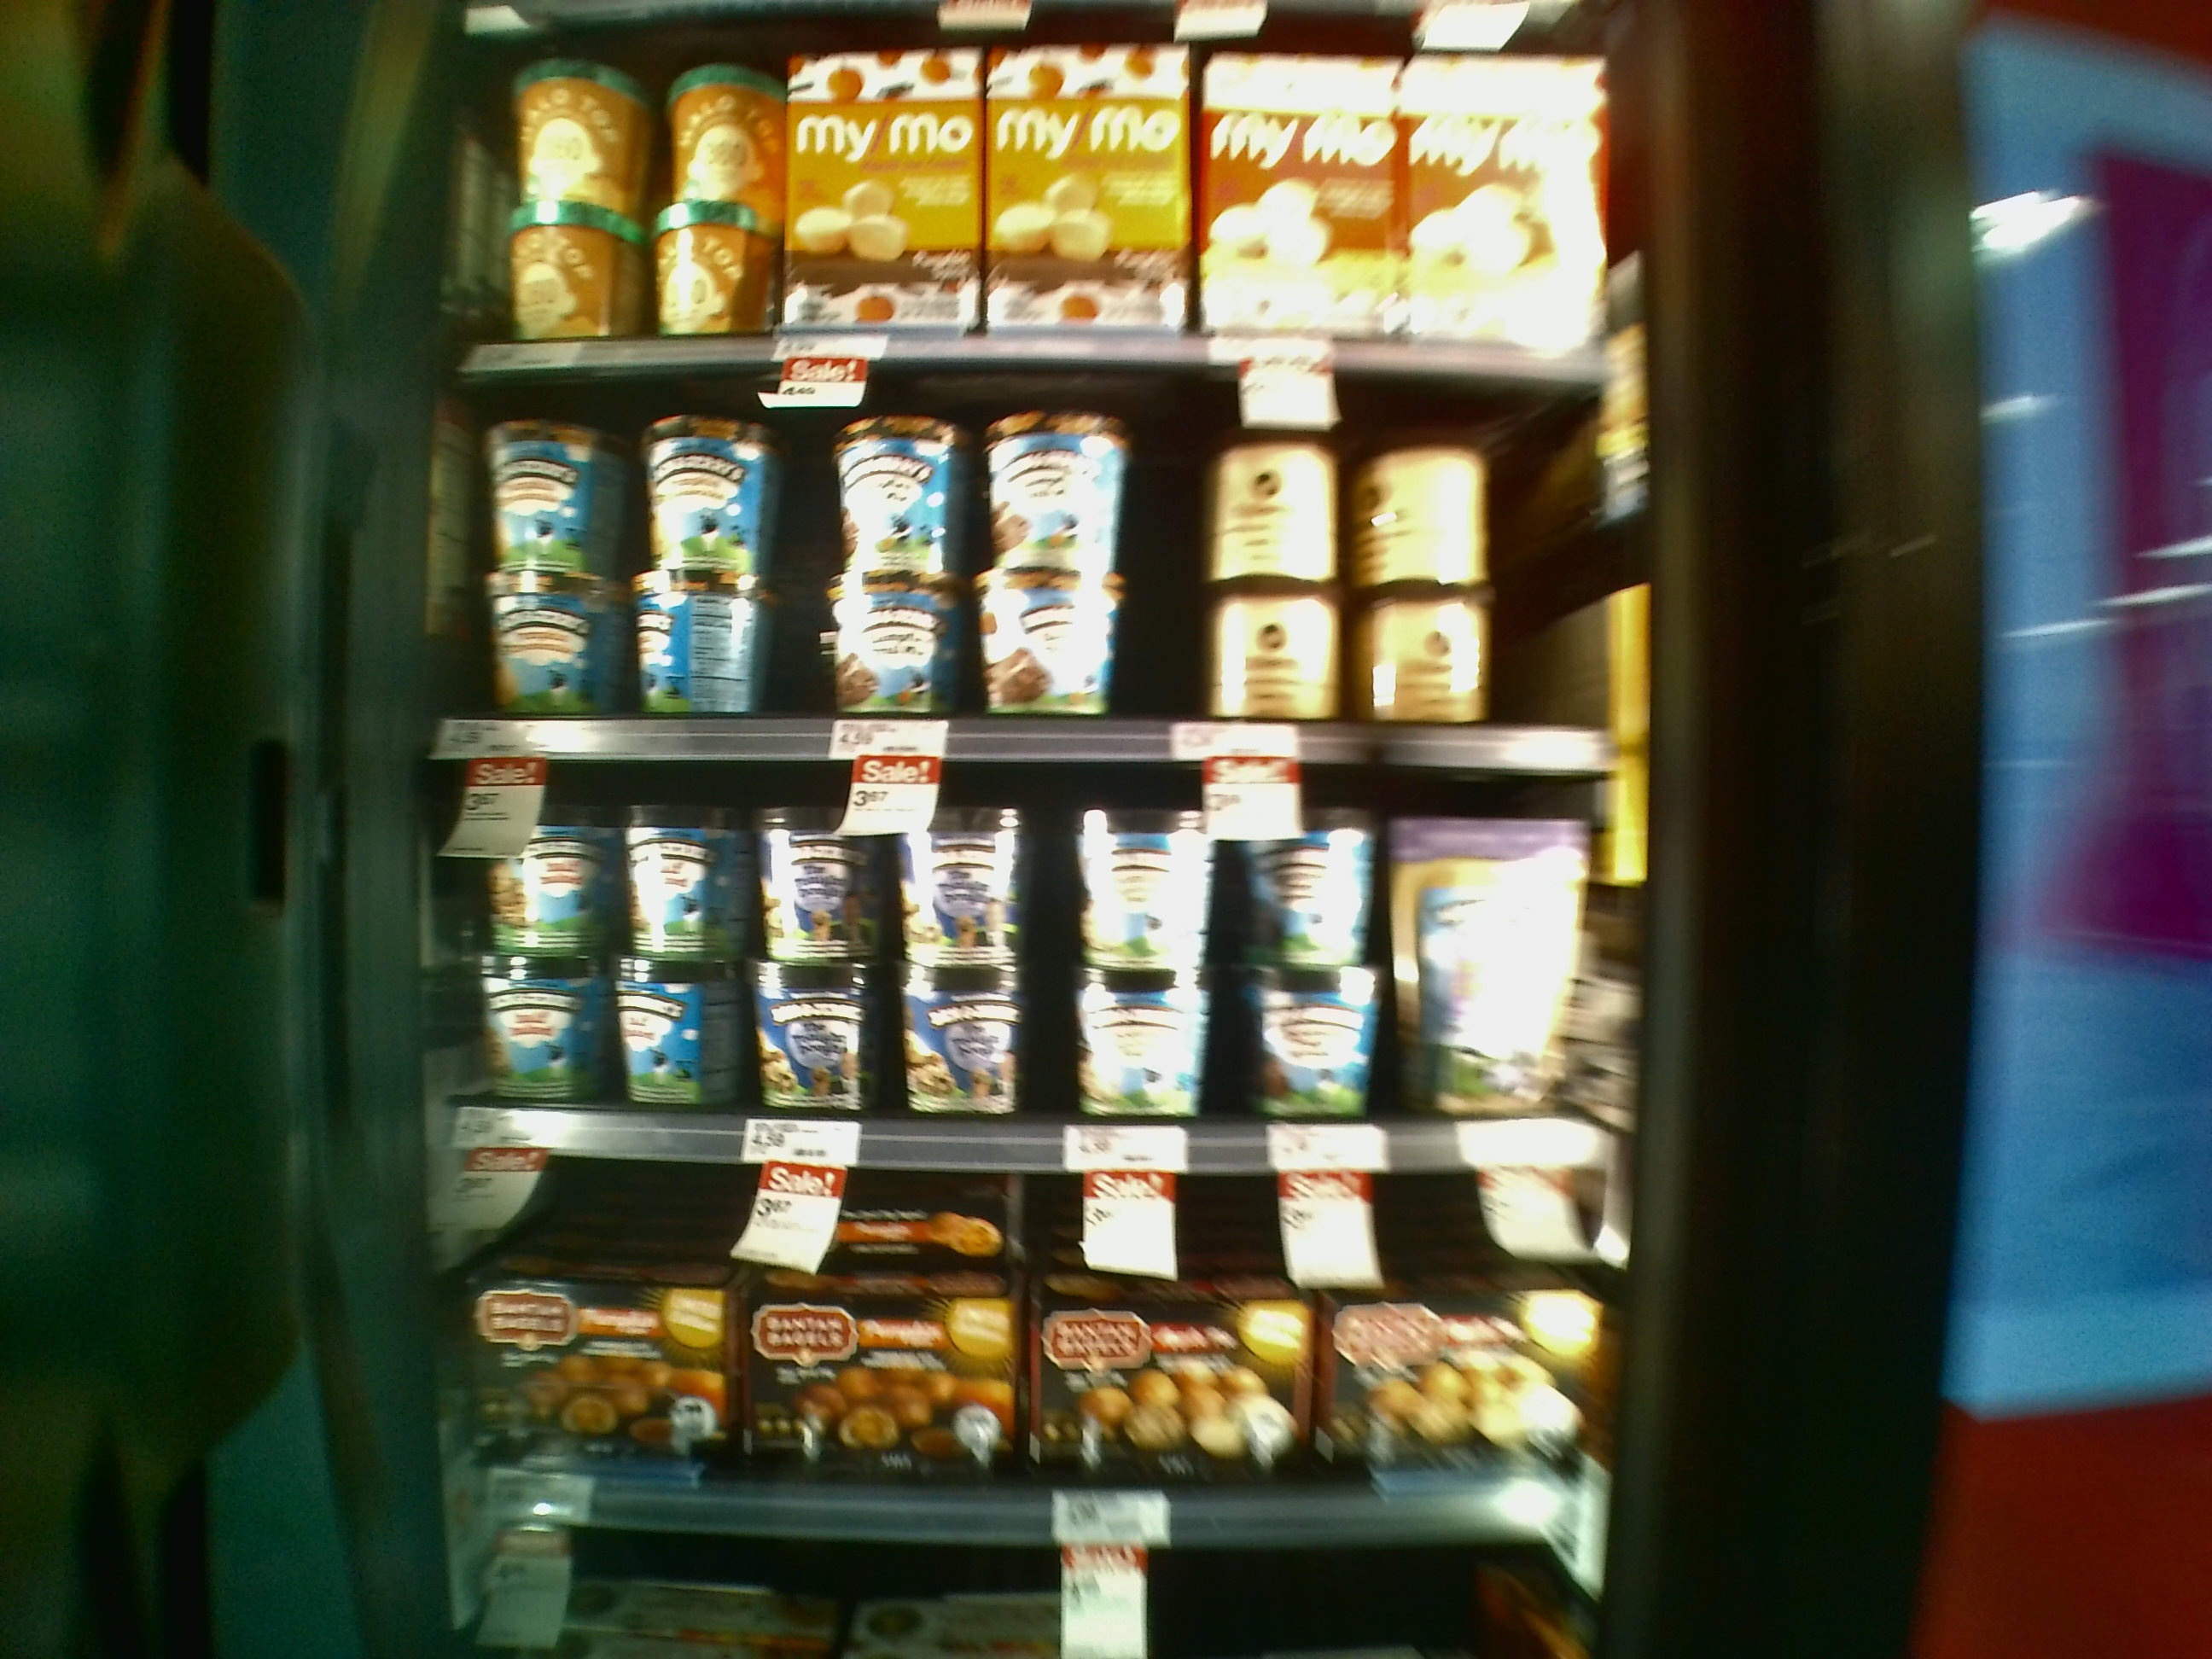shelf: (413, 727, 1627, 1159), (388, 1133, 1609, 1540), (435, 347, 1625, 755)
